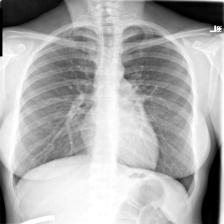normal: (11, 18, 198, 202)
